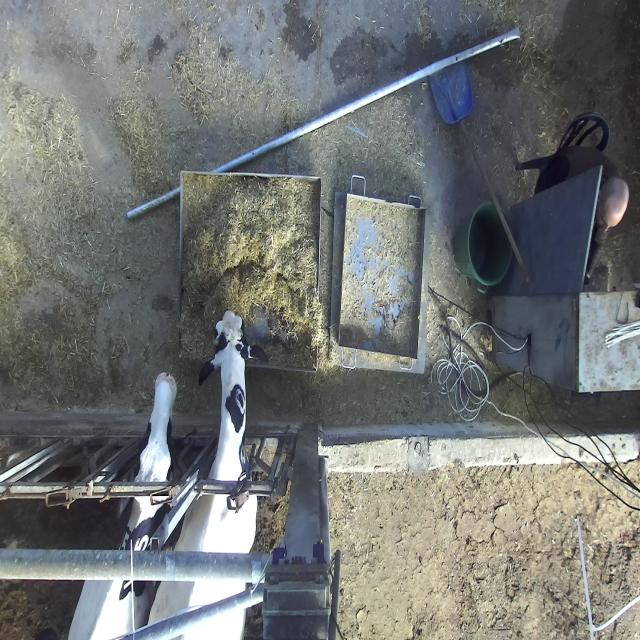cow: (118, 372, 177, 516), (198, 312, 270, 389)
